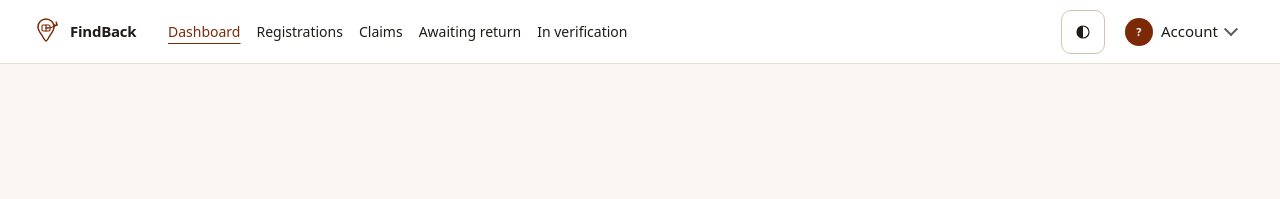
Test case: the administrator topbar › opens the Account menu with Profile and Logout
This screenshot has width=1280, height=199.
Click the button with aria-label "Account ▾" at {"x": 1180, "y": 32}, box x1=1113 y1=10 x2=1248 y2=54
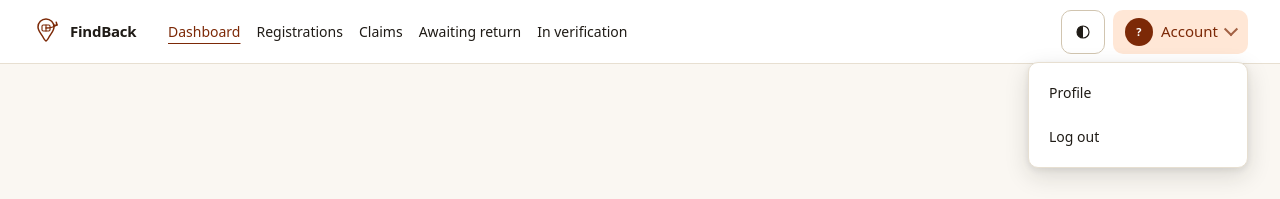
Now the button "Log out" is shown, box x1=1037 y1=114 x2=1239 y2=158
